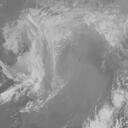cyclone: (34, 24, 114, 97)
